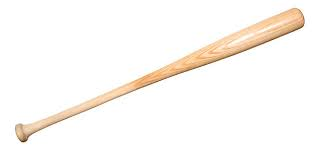baseball bat: (14, 7, 306, 142)
